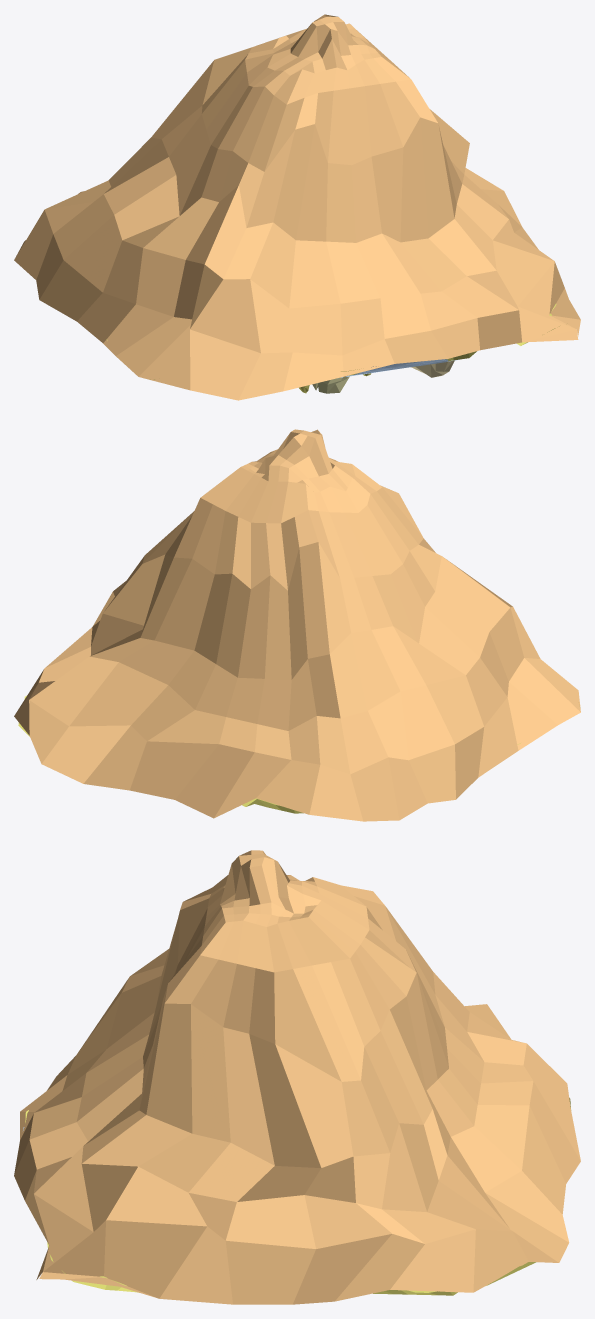
Rendered from stone1.gltf.
3 renders of one model, top to bottom at view 1: azimuth 30°, elevation 25°; view 2: azimuth 150°, elevation 25°; view 3: azimuth 270°, elevation 25°, orthographic. The views are drawn at different scales.
Visible parts, largest first — view 1: Plane.009; view 2: Plane.009; view 3: Plane.009.
Part boxes in pixels (box(x1,y1,x2,y2)): Plane.009: box(14, 14, 580, 400); Plane.009: box(14, 429, 580, 821); Plane.009: box(14, 850, 580, 1304).
Size of the model in its own units: 3.13 by 2.06 by 2.92.
